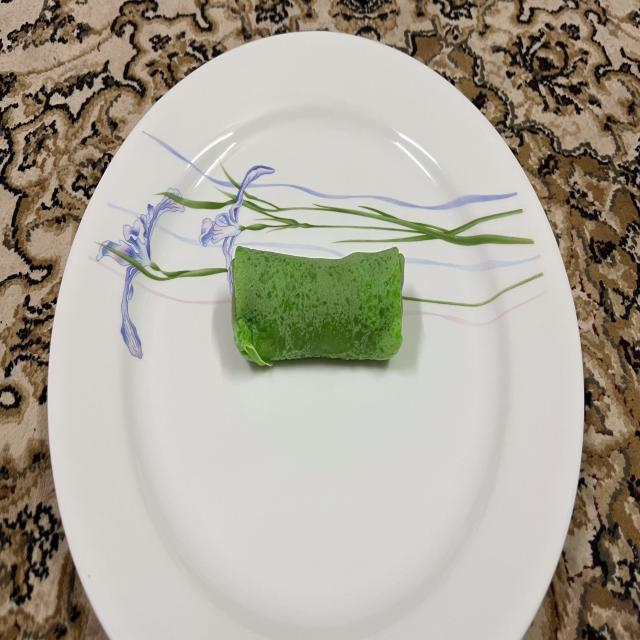Kuih-Ketayap: (231, 247, 404, 364)
